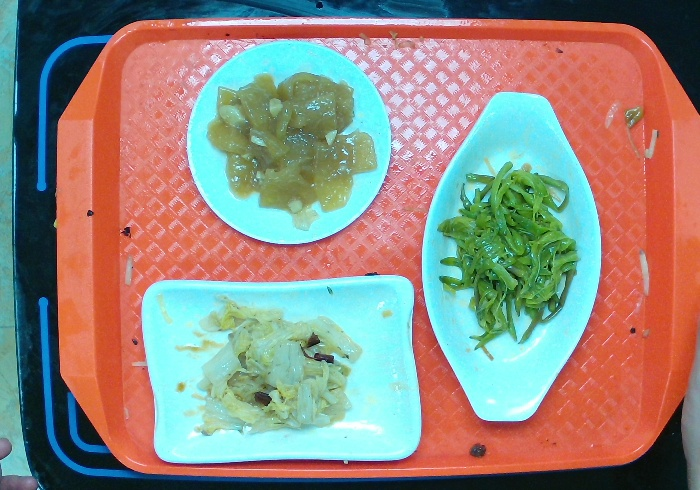RJxy-Si_Fang_Ao_Bian_Wan: (137, 270, 426, 470)
RJxy-Xiao_Yuan_Die: (180, 37, 394, 249)
RJxy-Yu_Pan: (416, 89, 606, 429)
